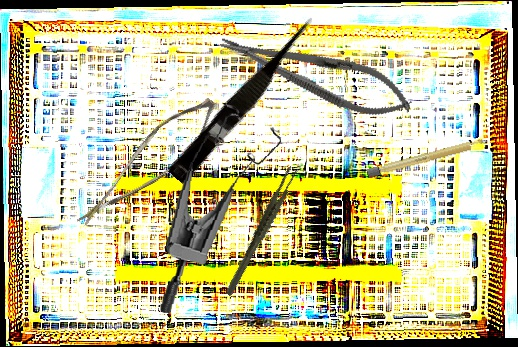Micro Scissor: (166, 11, 326, 189), (76, 77, 225, 254)
Needle Holder: (213, 17, 419, 130)
Scalpel Handle: (364, 136, 491, 179)
Speculum: (158, 98, 285, 324)
Tissue Forceps: (203, 163, 319, 298)
